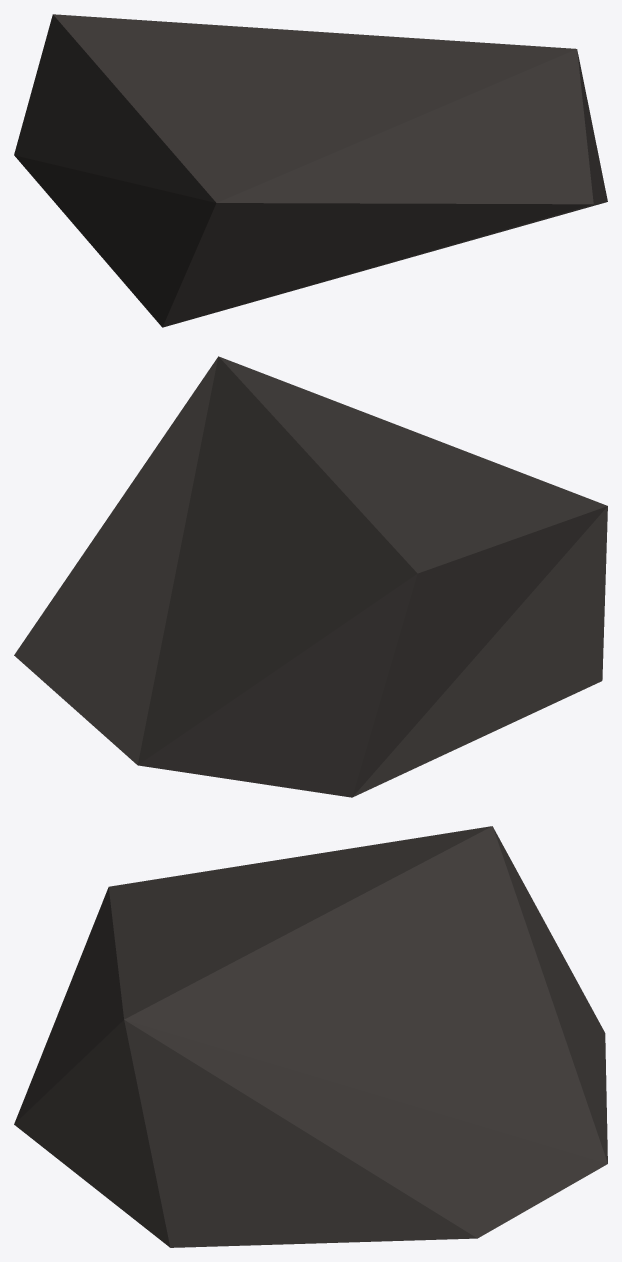
File: Rock_Single_3_LOD_1.fbx
3 views of the same model, one above another, from view 1: azimuth 30°, elevation 25°; view 2: azimuth 150°, elevation 25°; view 3: azimuth 270°, elevation 25° (orthographic). The views are drawn at different scales.
Visible parts, largest first — view 1: Group65481; view 2: Group65481; view 3: Group65481.
Part boxes in pixels (x1,y1,x2,y2): Group65481: (14, 14, 607, 327); Group65481: (14, 356, 607, 797); Group65481: (14, 826, 607, 1247).
Size of the model in its own units: 0.9313 by 0.4012 by 0.9751.
